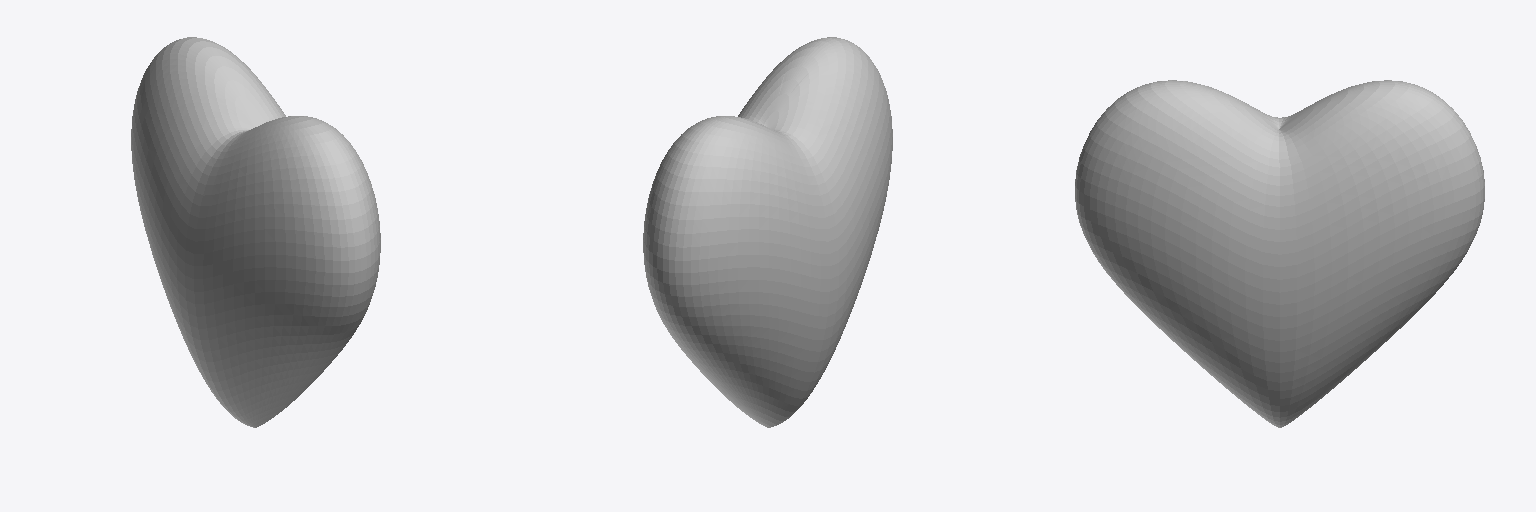
Rendered from heart_with_normals.obj.
3 views of the same model, side by side, from view 1: azimuth 30°, elevation 25°; view 2: azimuth 150°, elevation 25°; view 3: azimuth 270°, elevation 25° (orthographic).
Parts seen in each view (by area): view 1: Heart; view 2: Heart; view 3: Heart.
Boxes of the visible parts, <box> form: Heart: <box>131,37,380,427</box>; Heart: <box>643,37,892,427</box>; Heart: <box>1075,80,1484,427</box>.
Size of the model in its own units: 59.95 by 139 by 150.